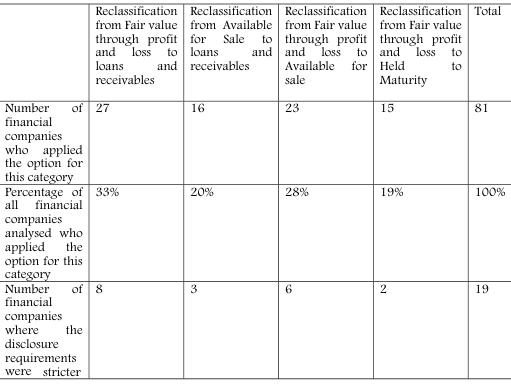table: (4, 4, 504, 377)
table column: (182, 4, 277, 377), (277, 4, 372, 377), (372, 4, 467, 377), (88, 4, 182, 377), (4, 4, 88, 377), (467, 4, 504, 377)
table column header: (4, 4, 504, 93)
table row: (4, 184, 504, 281), (4, 281, 504, 377), (4, 93, 504, 184), (4, 4, 504, 93)
